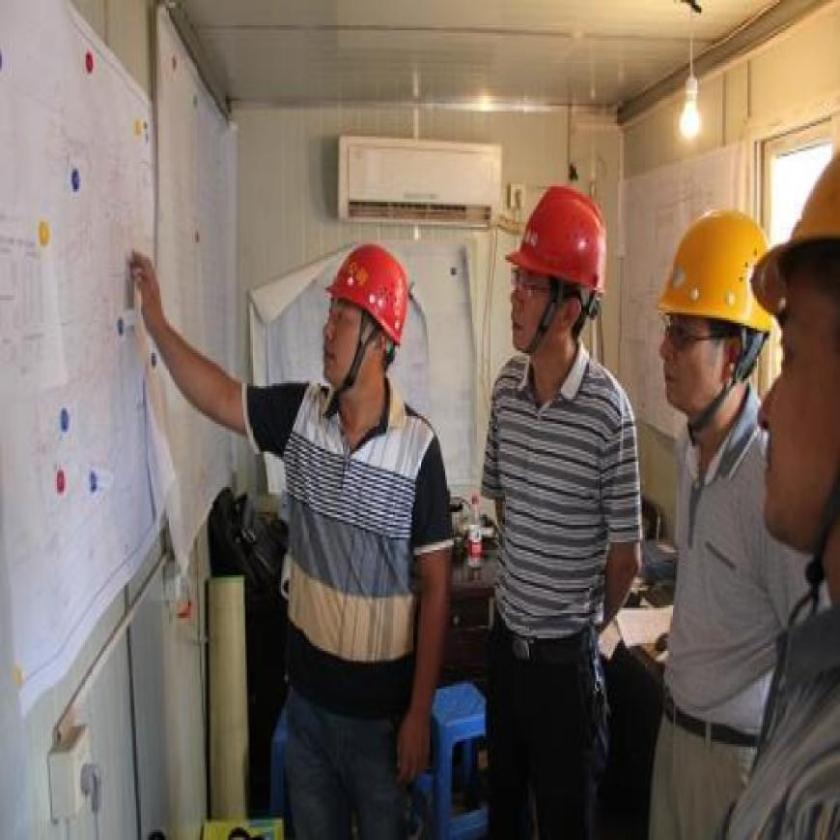Con_casco: (652, 211, 786, 428), (495, 174, 615, 358), (309, 228, 416, 405)
